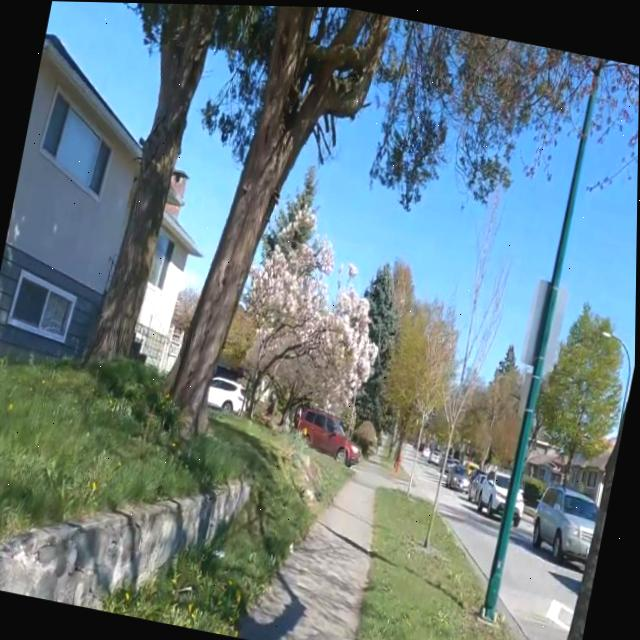Automobile: (534, 482, 599, 560), (299, 406, 359, 463), (469, 467, 511, 516), (208, 375, 244, 410), (447, 461, 470, 488), (512, 486, 524, 523), (429, 448, 443, 463)
Road: (499, 519, 582, 640), (441, 487, 499, 574), (355, 450, 413, 490), (411, 458, 439, 500), (441, 485, 474, 517)
Sidewalk: (242, 476, 376, 640)
